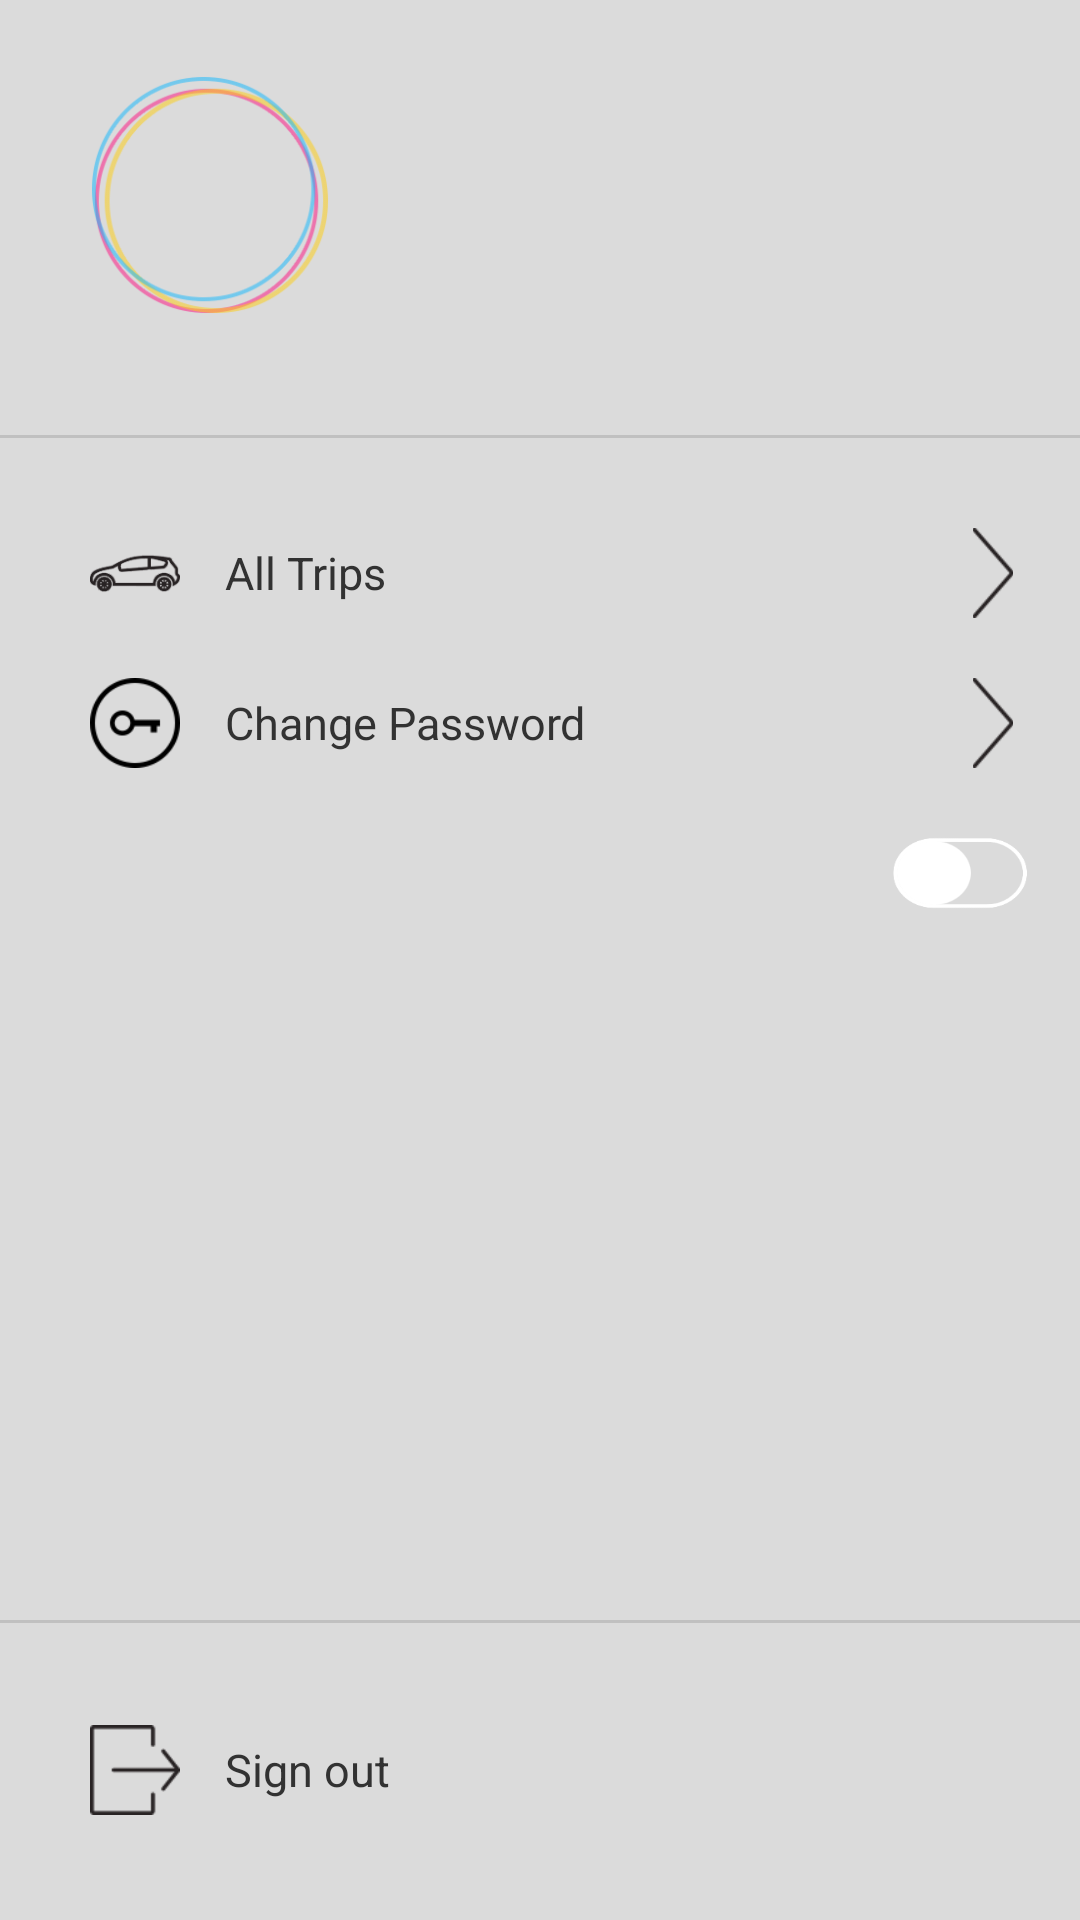

Where icons sit on this 1080×1920 app screen, as (x1, y1, x2, y2):
nevigation arrow: (973, 528, 1013, 618), (973, 678, 1013, 768)
